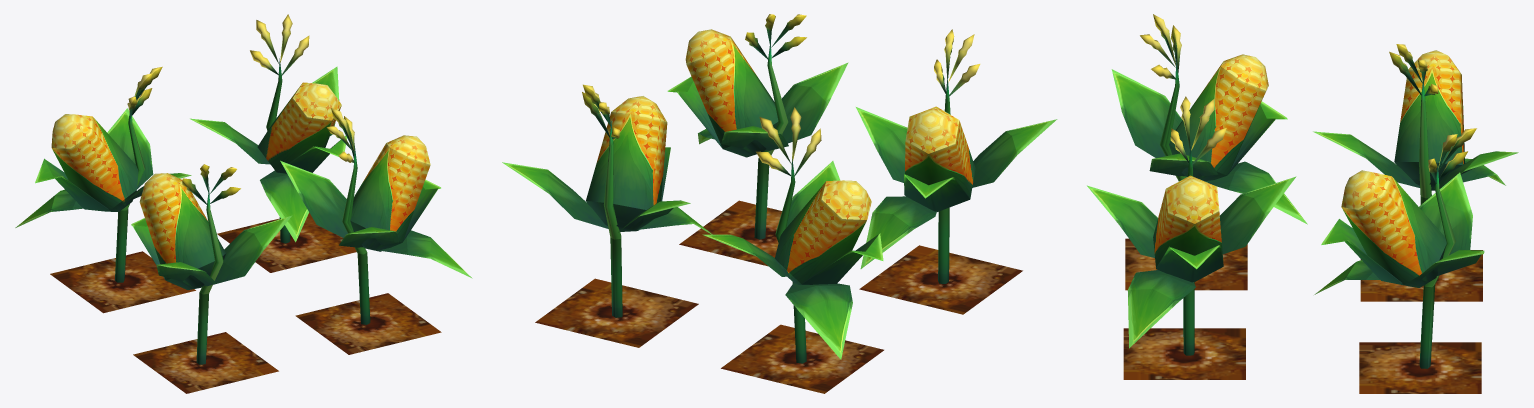
Rendered from cornGrown.fbx.
3 renders of one model, left to right at view 1: azimuth 30°, elevation 25°; view 2: azimuth 150°, elevation 25°; view 3: azimuth 270°, elevation 25°, orthographic. The views are drawn at different scales.
Parts seen in each view (by area): view 1: cornGrown; view 2: cornGrown; view 3: cornGrown.
Part boxes in pixels (bbox=[...]): cornGrown: bbox=[15, 14, 472, 393]; cornGrown: bbox=[502, 14, 1057, 393]; cornGrown: bbox=[1087, 14, 1518, 393].
Bounding box in the file's own units: 10368 × 6330 × 10257.
